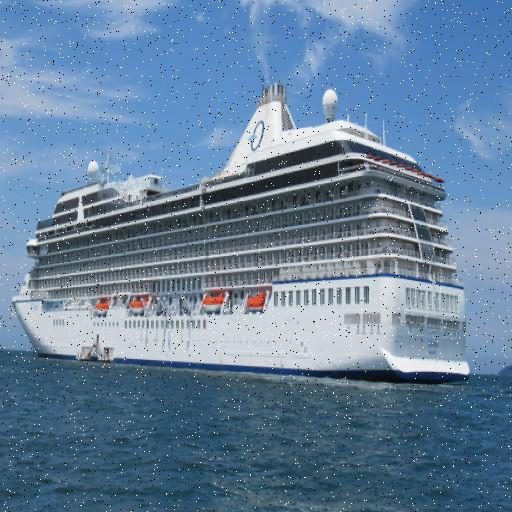cruises: (12, 78, 475, 389)
